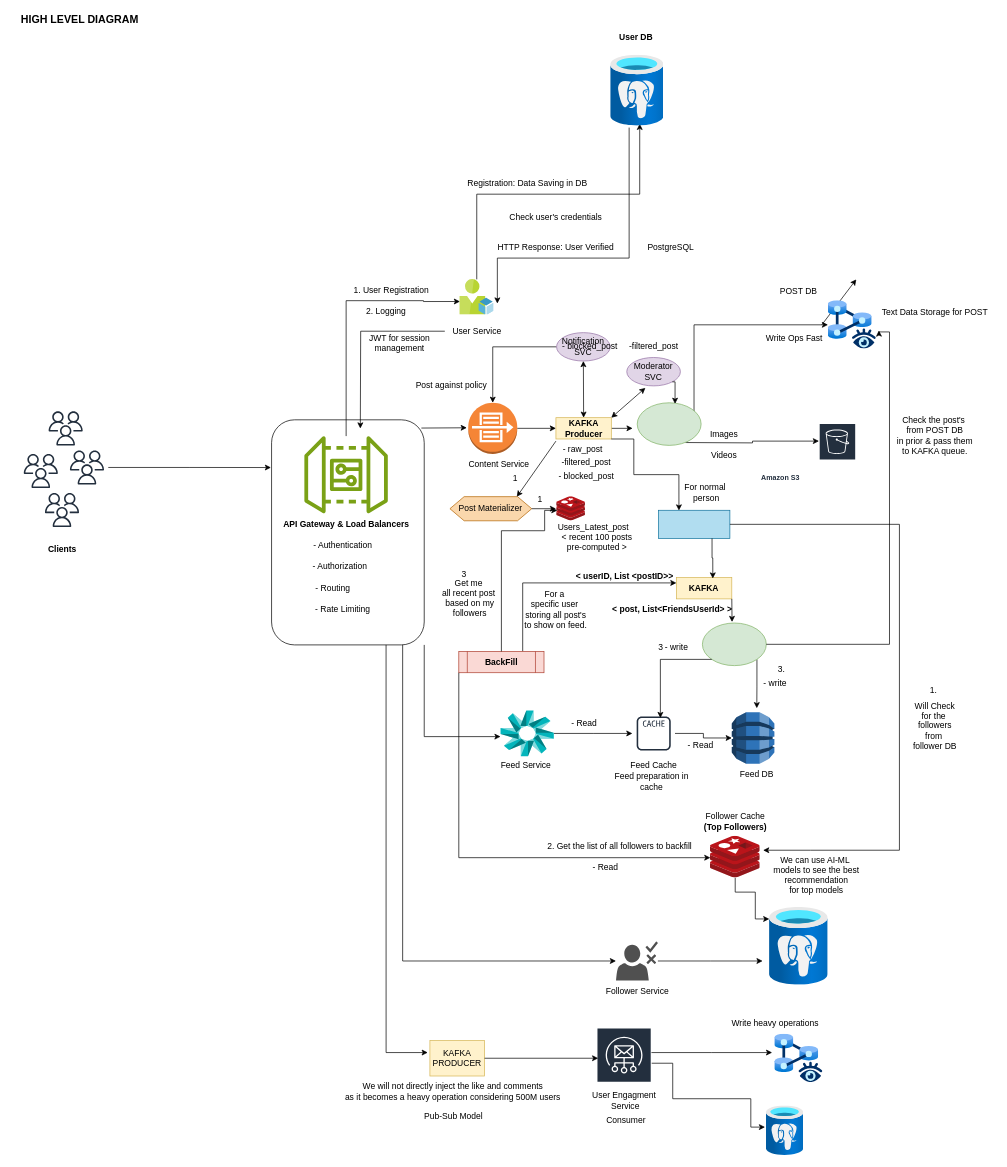
This 1007x1167 diagram has some shape labels left out. The centre of each missing label's shape, as x and y in pixels:
"Fanout Consumer" goes at (x=734, y=644).
"Fanout Svc (PUSH)" goes at (x=694, y=524).
"Post Consumer SVC" goes at (x=669, y=423).
